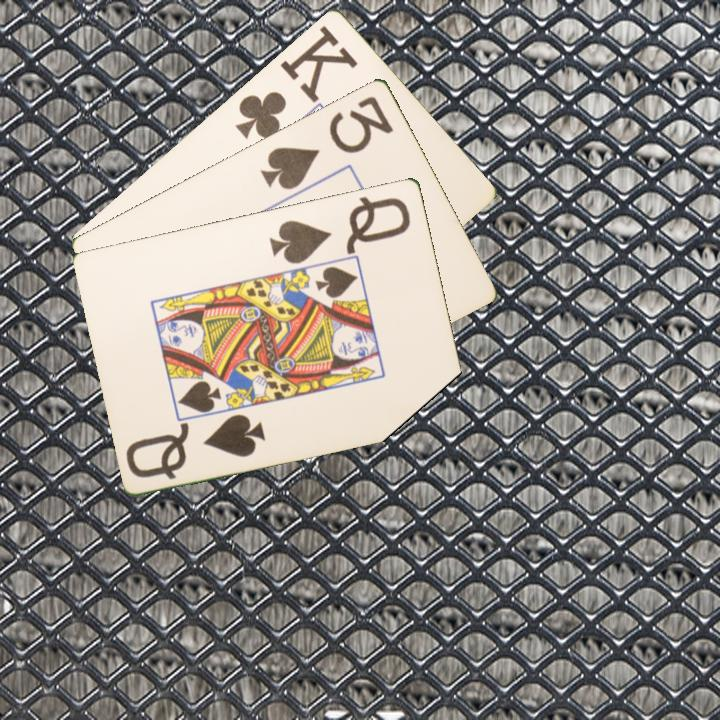3s: (257, 91, 397, 193)
Kc: (231, 21, 360, 141)
Qs: (265, 192, 414, 267), (122, 409, 269, 482)
